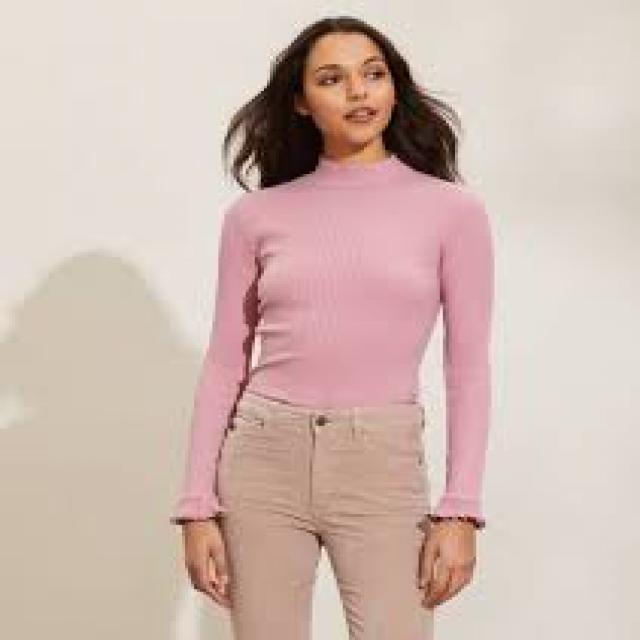plain: (210, 147, 500, 416)
